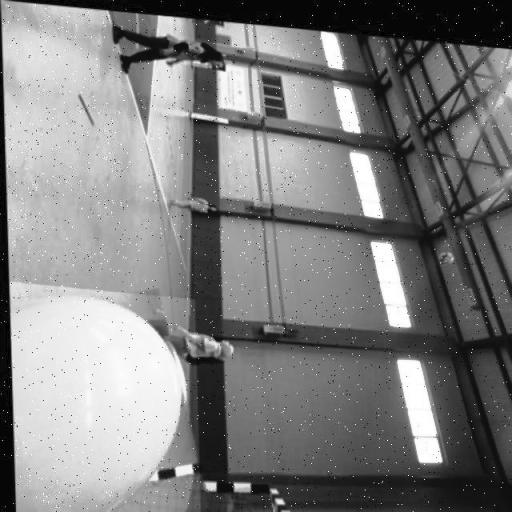balloon: (6, 281, 197, 512)
